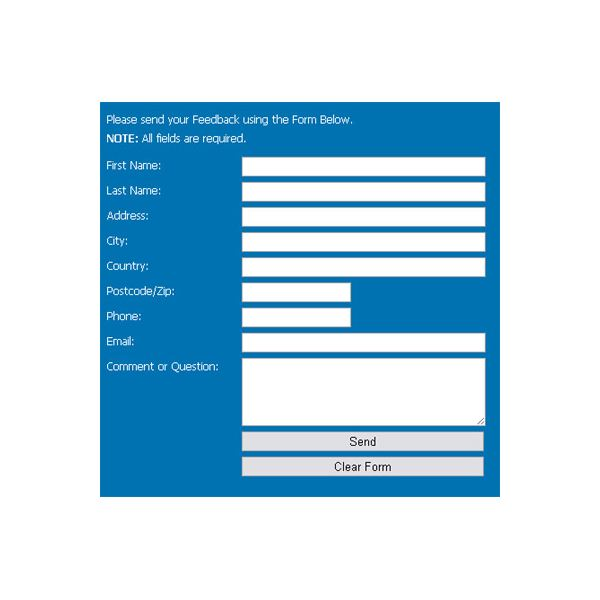_form_: (94, 96, 510, 512)
button: (240, 455, 484, 478), (240, 430, 484, 452)
field: (239, 356, 487, 428), (240, 155, 487, 178), (239, 180, 486, 203), (240, 331, 487, 354), (240, 206, 486, 228), (240, 256, 486, 278), (239, 231, 487, 252), (240, 306, 353, 330), (240, 282, 352, 304)
field_with_label: (101, 356, 488, 428), (106, 154, 488, 179), (104, 179, 486, 204), (103, 204, 485, 229), (103, 230, 485, 255), (105, 255, 487, 280), (105, 331, 487, 356), (103, 281, 354, 305), (103, 307, 352, 328)
